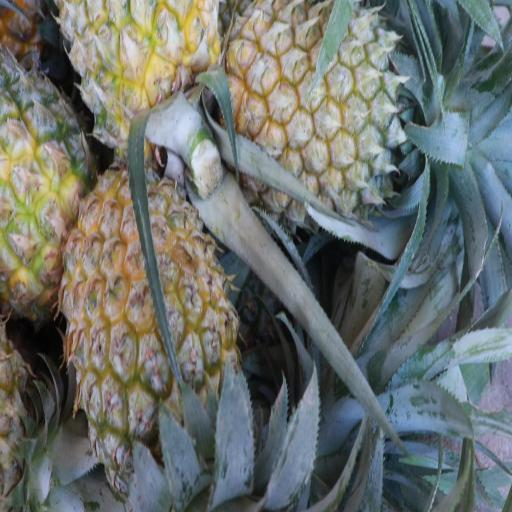------------------------------: (0, 42, 95, 324)
Pineapple - v8 v1: (52, 154, 244, 512), (207, 0, 413, 239), (50, 0, 225, 234)
